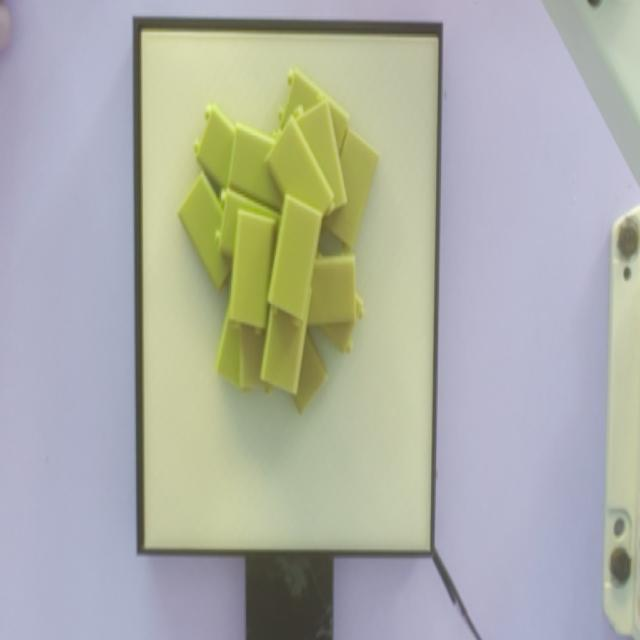bateria: (267, 195, 324, 330)
mesa: (133, 18, 443, 559)
